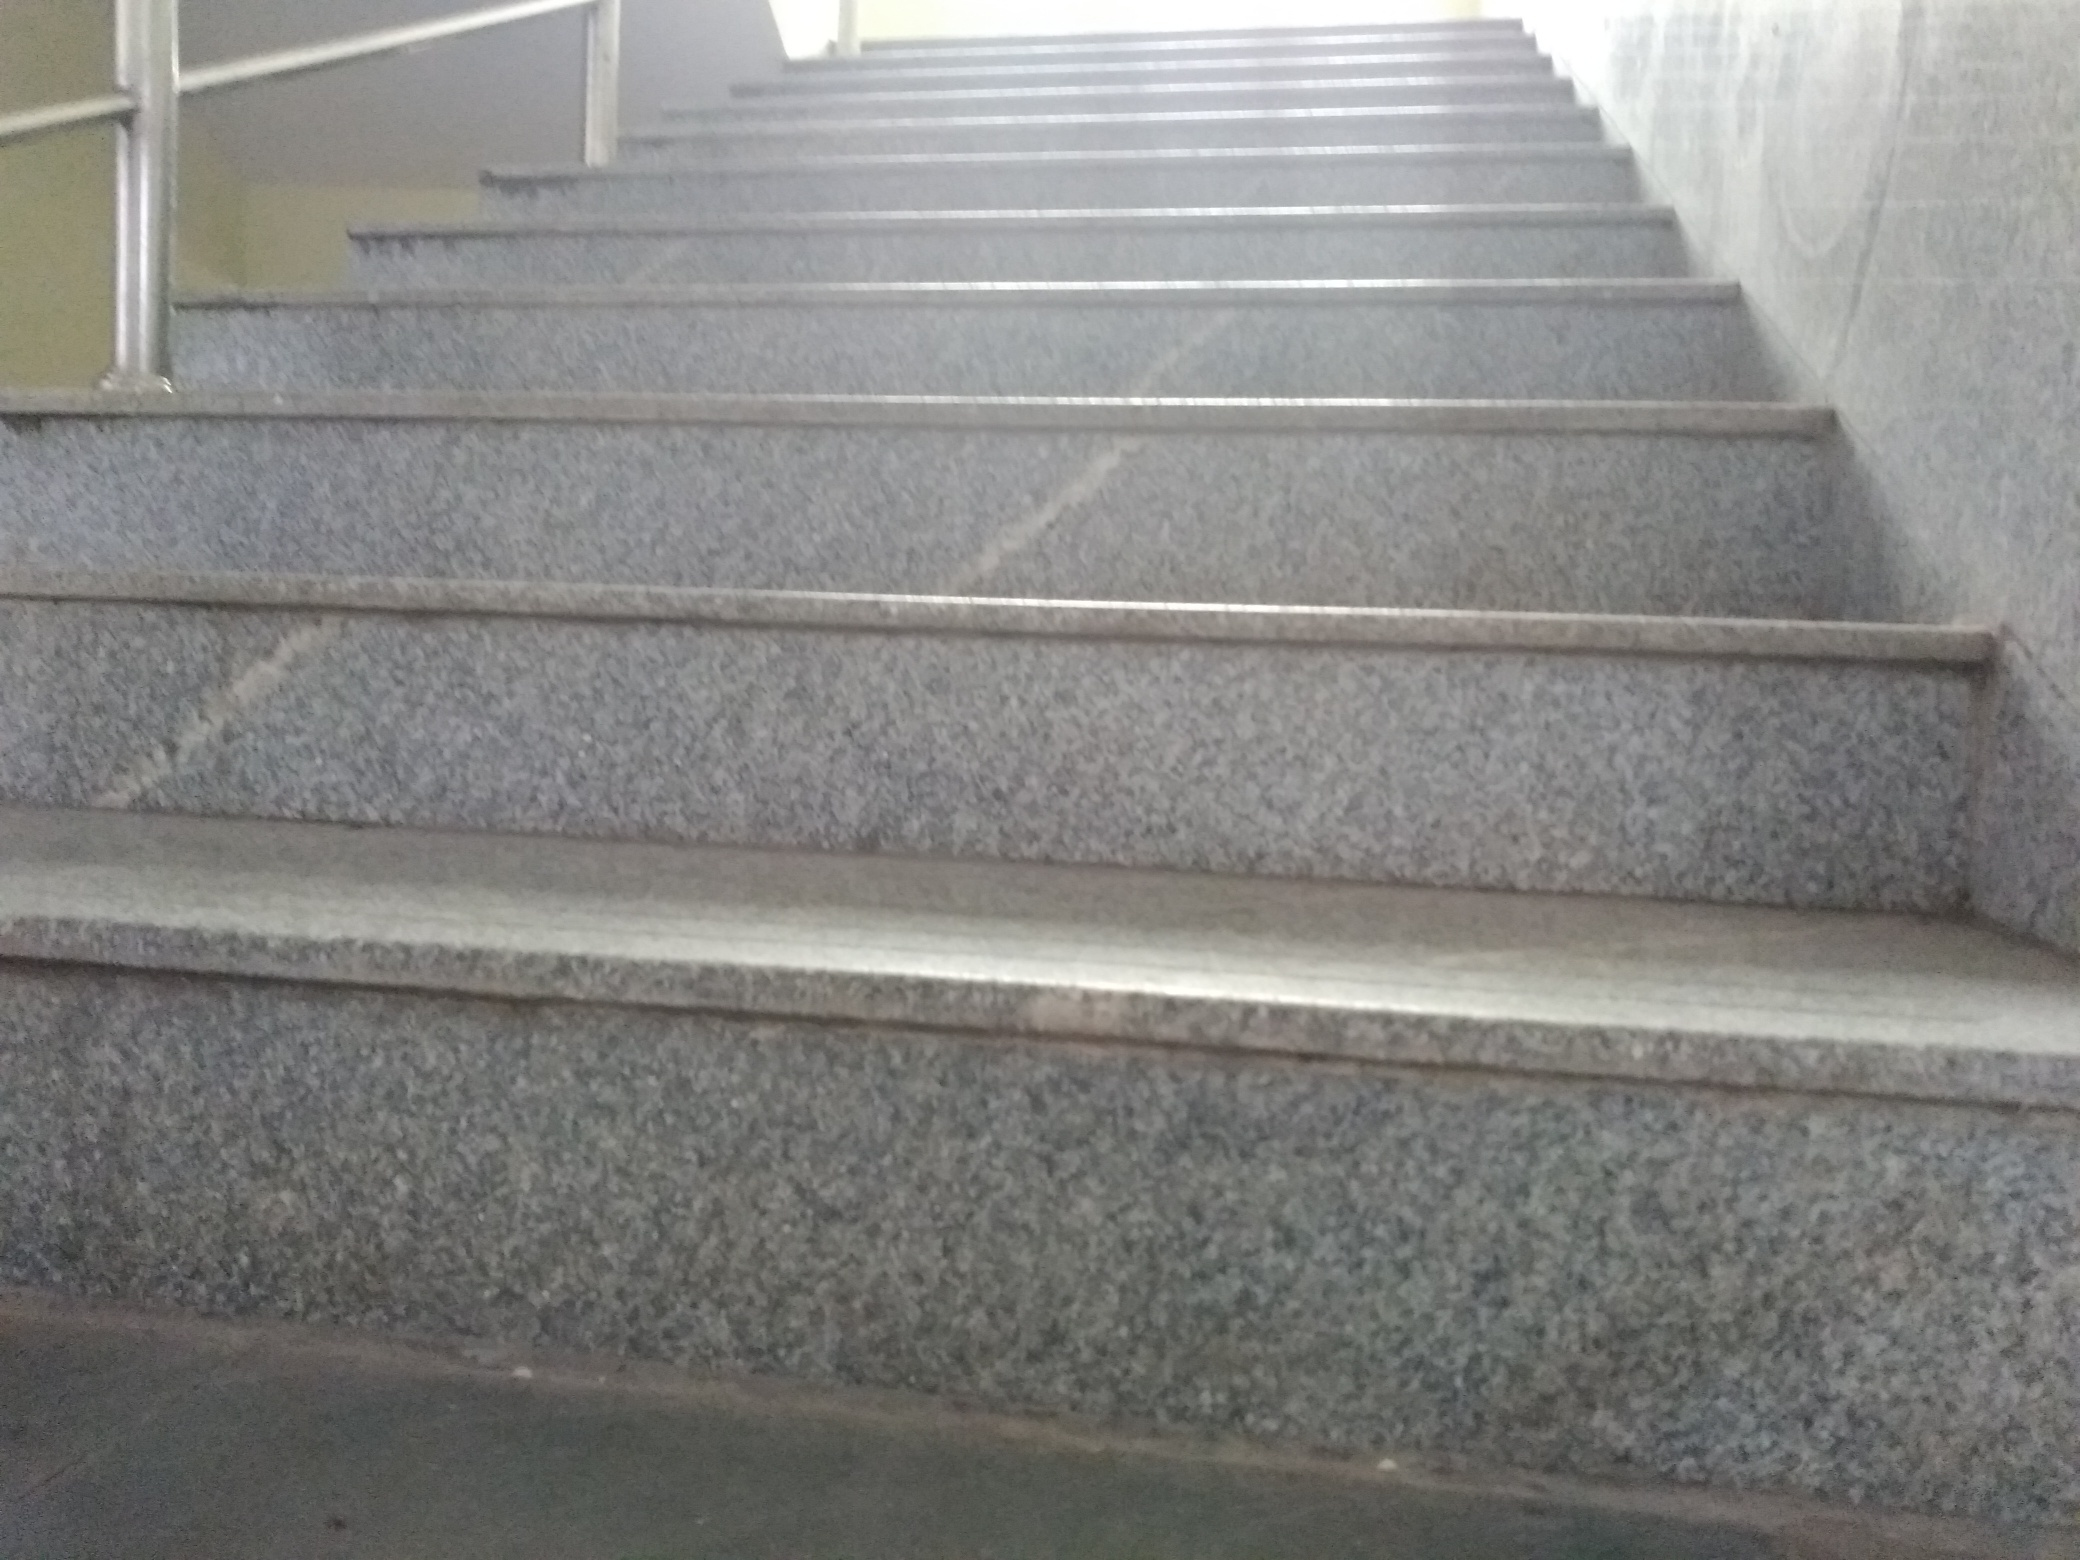stairs_up: (3, 46, 1985, 1444)
